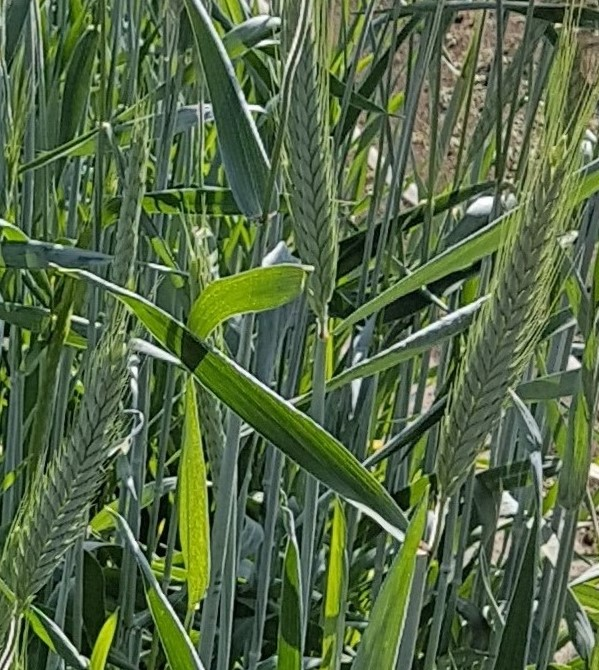Healthy Wheat: (445, 149, 573, 484)
